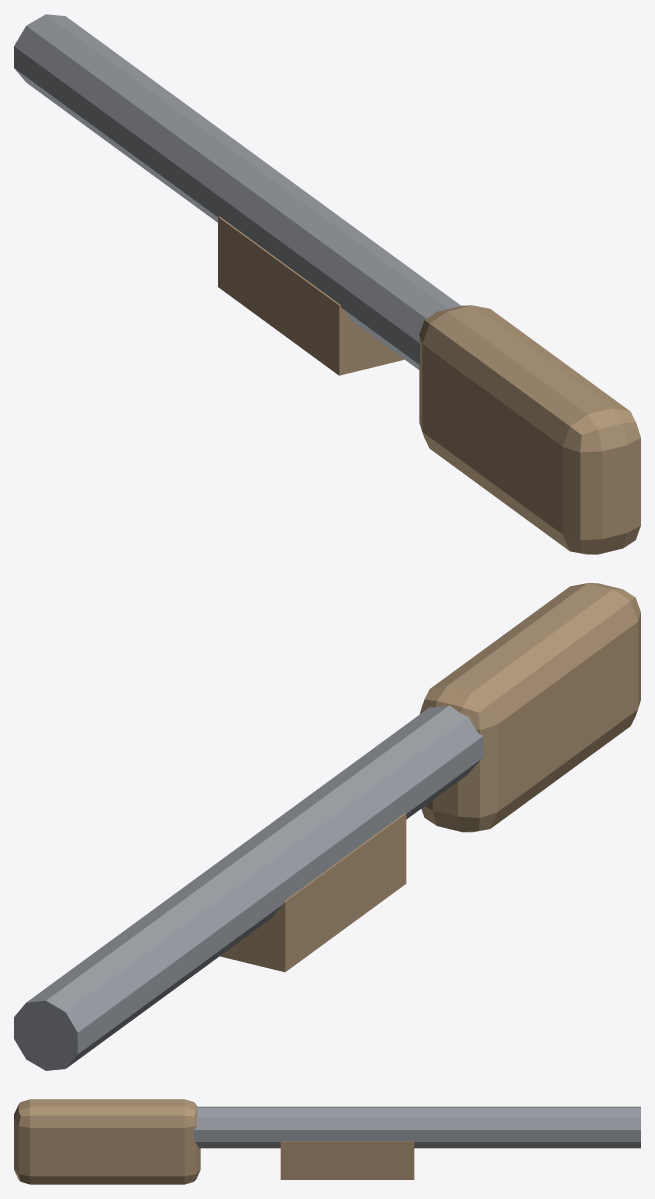
Rendered from wpn_shotgun.glb.
The picture shows the model from 3 angles, top to bottom: view 1: azimuth 30°, elevation 25°; view 2: azimuth 150°, elevation 25°; view 3: azimuth 270°, elevation 25°; orthographic projection. The views are drawn at different scales.
Visible parts, largest first — view 1: shot_barrel, shot_stock, shot_pump; view 2: shot_barrel, shot_stock, shot_pump; view 3: shot_barrel, shot_stock, shot_pump.
Boxes of the visible parts, x1=… form: shot_barrel: x1=14, y1=14, x2=460, y2=369; shot_stock: x1=419, y1=305, x2=640, y2=554; shot_pump: x1=218, y1=216, x2=404, y2=375; shot_barrel: x1=14, y1=705, x2=483, y2=1070; shot_stock: x1=420, y1=583, x2=640, y2=832; shot_pump: x1=220, y1=813, x2=406, y2=972; shot_barrel: x1=193, y1=1106, x2=640, y2=1148; shot_stock: x1=14, y1=1099, x2=200, y2=1184; shot_pump: x1=280, y1=1141, x2=414, y2=1179.
Size of the model in its own units: 0.09 by 0.16 by 1.17.
